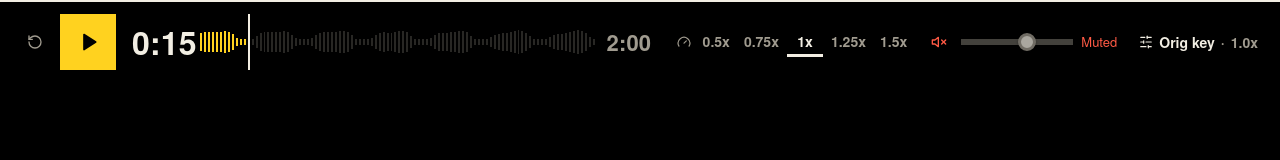
Test: TransportDock › Master volume & mute › auto-unmutes when adjusting the volume slider while muted
Set the slider named "master volume" to "0.85": (1051, 42) [961,28,1073,56]
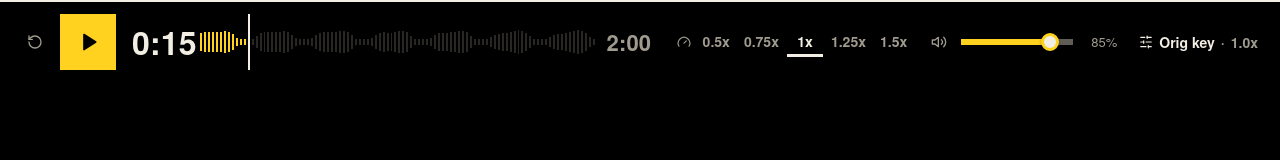
Expected: the text "85%" is shown, [1091,32,1117,51]
